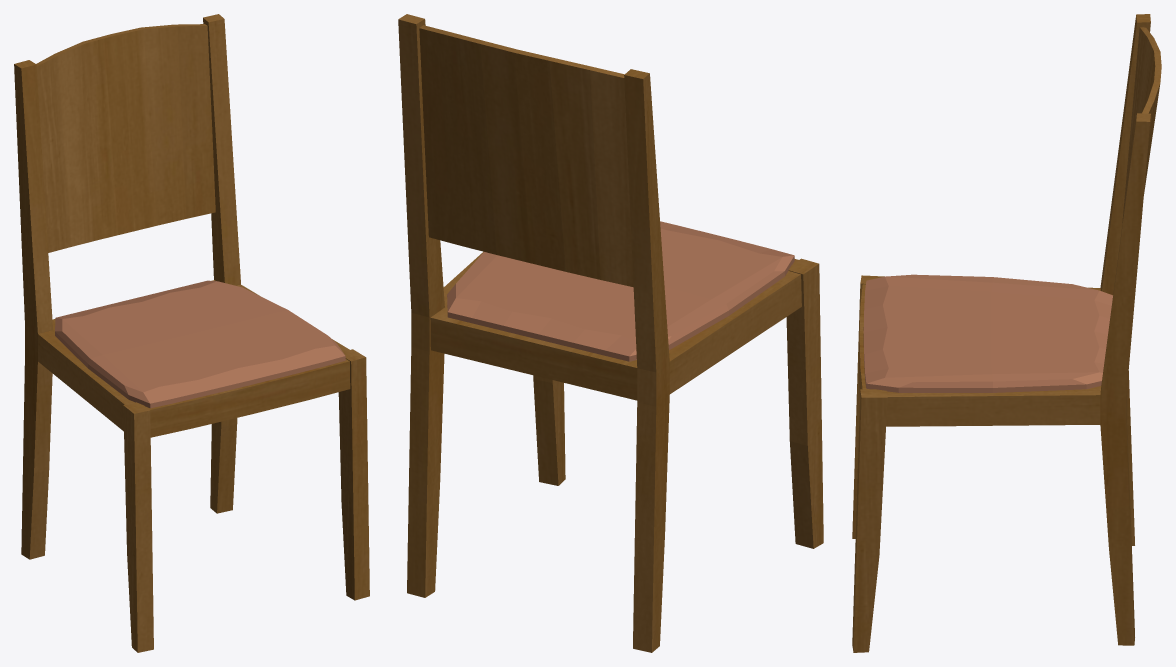
File: sweethome3d-scopia-chair-29.glb
3 views of the same model, side by side, from view 1: azimuth 30°, elevation 25°; view 2: azimuth 150°, elevation 25°; view 3: azimuth 270°, elevation 25° (orthographic). The views are drawn at different scales.
Parts seen in each view (by area): view 1: fusta_taula_tipic.001_fusta_taula_tipic_fusta_taula_tipic.00, coixi_cadira_coixi_cadira_coixi_cadira.001; view 2: fusta_taula_tipic.001_fusta_taula_tipic_fusta_taula_tipic.00, coixi_cadira_coixi_cadira_coixi_cadira.001; view 3: fusta_taula_tipic.001_fusta_taula_tipic_fusta_taula_tipic.00, coixi_cadira_coixi_cadira_coixi_cadira.001.
Boxes of the visible parts, x1,y1,x2,y2 form: fusta_taula_tipic.001_fusta_taula_tipic_fusta_taula_tipic.00: (14, 14, 369, 652); coixi_cadira_coixi_cadira_coixi_cadira.001: (55, 280, 345, 408); fusta_taula_tipic.001_fusta_taula_tipic_fusta_taula_tipic.00: (398, 14, 823, 652); coixi_cadira_coixi_cadira_coixi_cadira.001: (447, 221, 794, 361); fusta_taula_tipic.001_fusta_taula_tipic_fusta_taula_tipic.00: (852, 14, 1161, 652); coixi_cadira_coixi_cadira_coixi_cadira.001: (863, 274, 1112, 392).
Bounding box in the file's own units: 44.12 × 88.37 × 47.17.
Materials: 2 (1 with a texture image).
